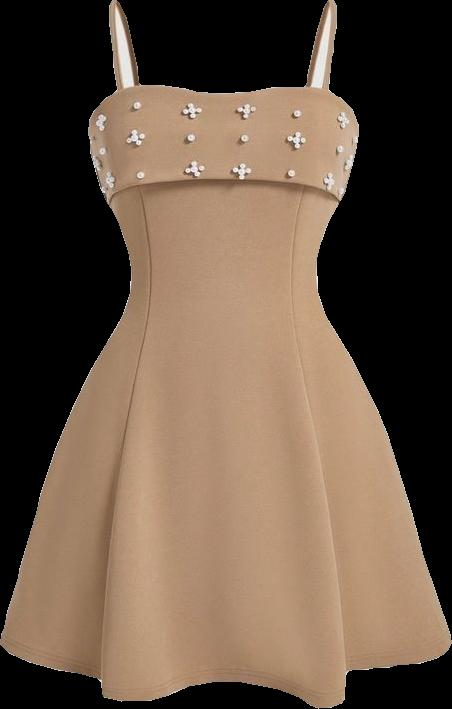Bodice: (88, 85, 358, 281)
Hemline: (0, 636, 451, 708)
Neckline: (85, 83, 362, 130)
Skirt: (1, 282, 451, 707)
Waistline: (102, 172, 342, 206)
